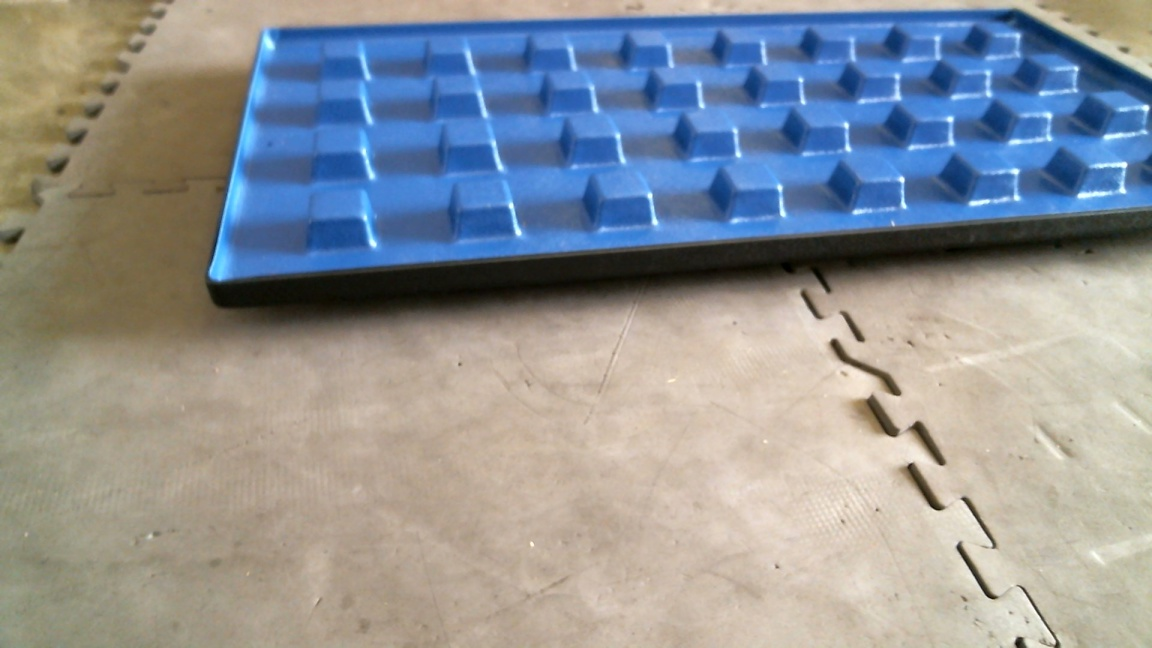blue_foundation: (215, 9, 1152, 294)
